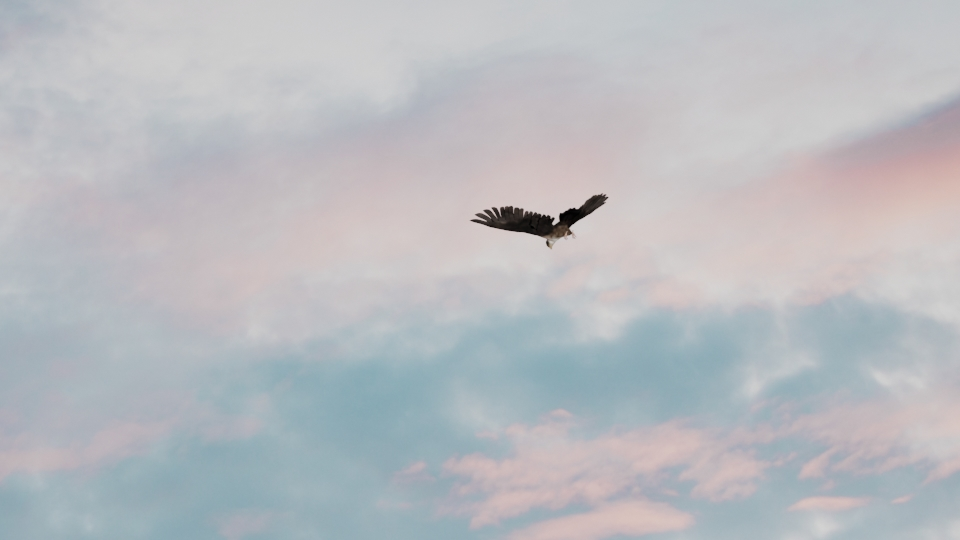bird: (471, 190, 609, 249)
